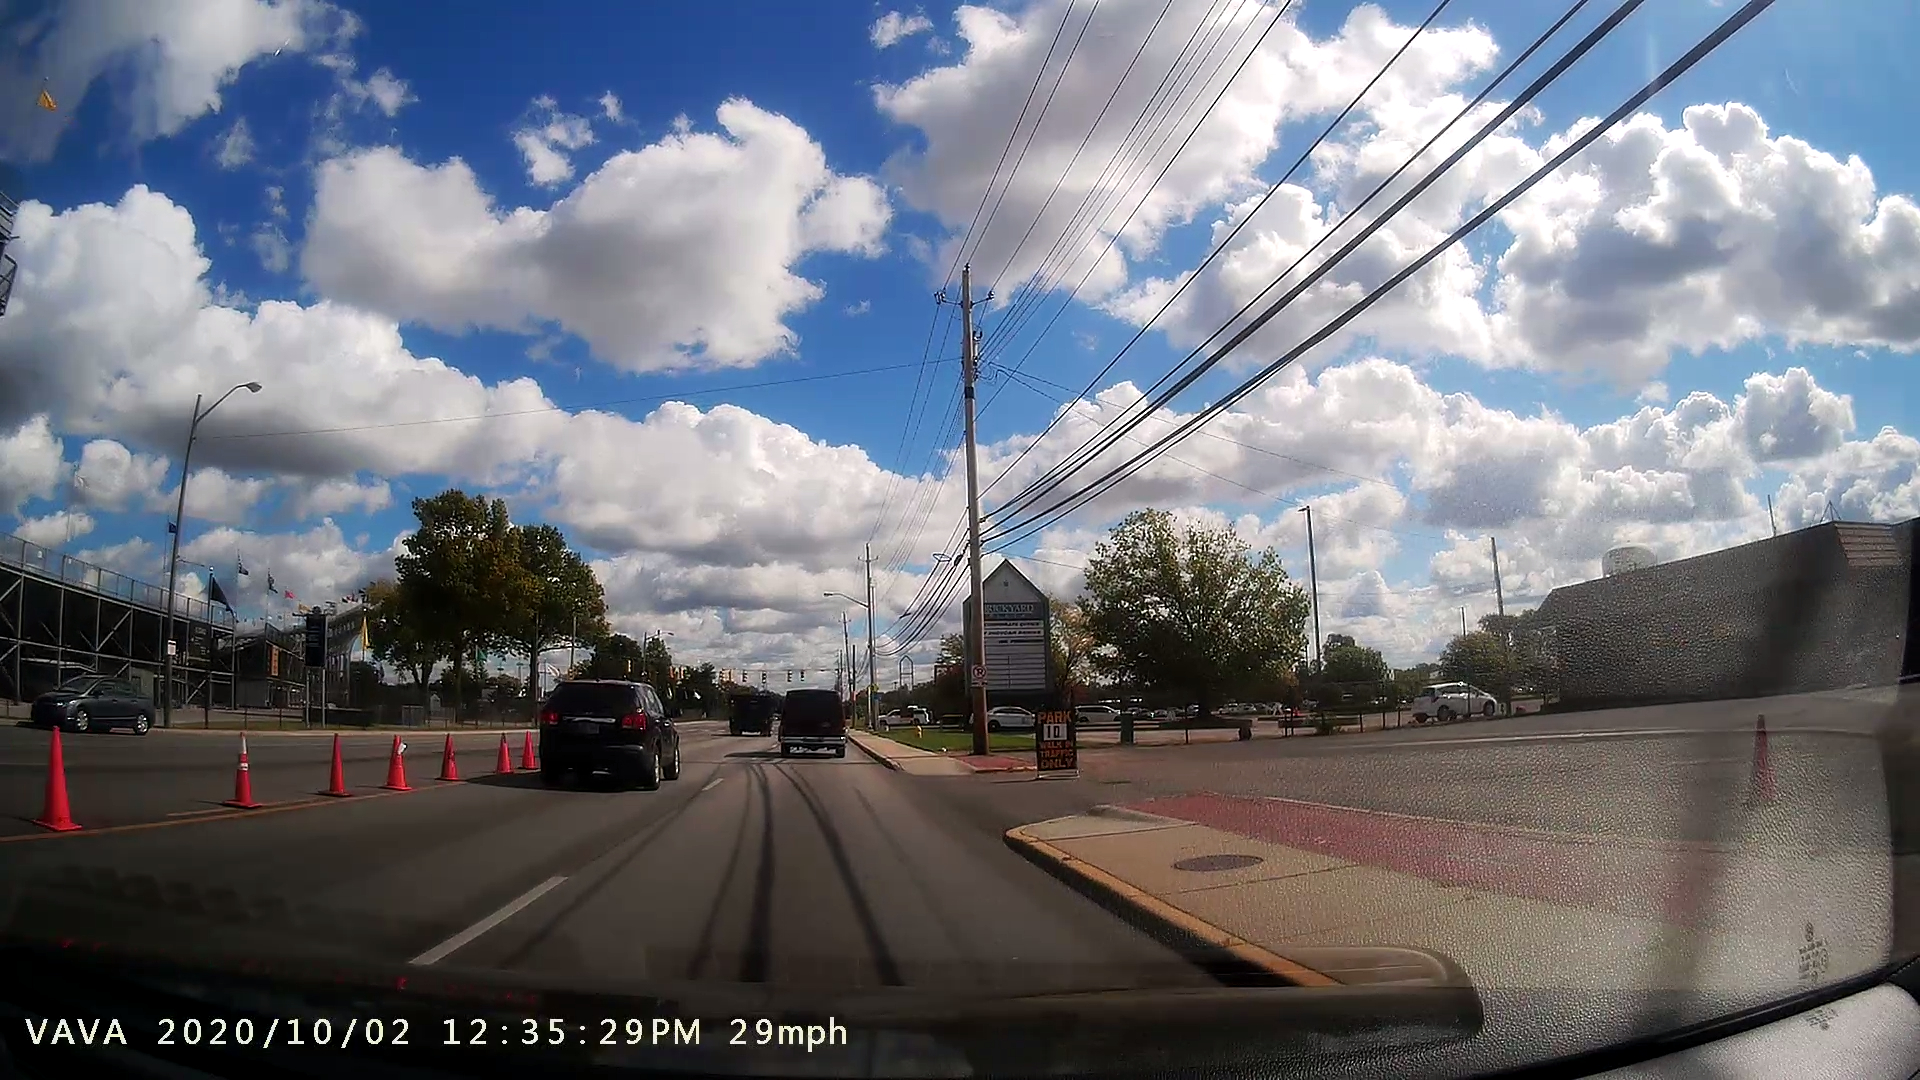const_cone: (16, 715, 102, 856), (206, 720, 270, 812), (313, 719, 360, 804), (373, 717, 419, 794), (429, 723, 469, 790), (514, 719, 545, 775), (489, 724, 513, 786)
